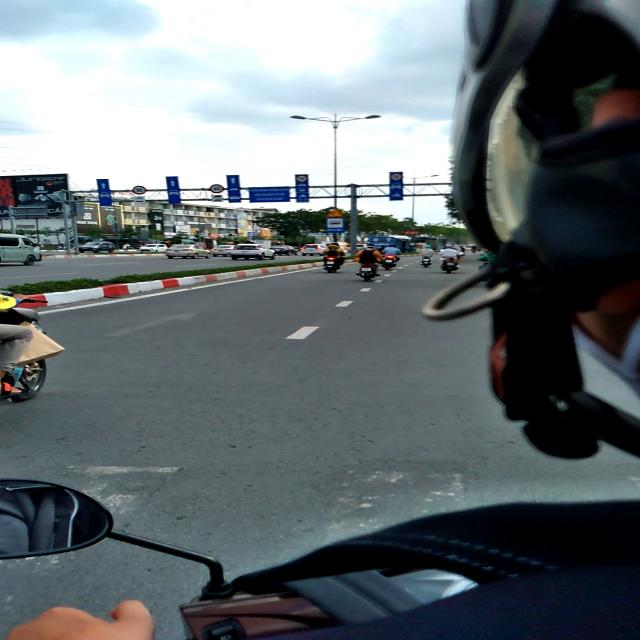P.127: (208, 184, 224, 193), (132, 186, 147, 194), (390, 173, 402, 181), (296, 175, 308, 182)
R.434: (326, 218, 345, 232)
W.201b: (325, 208, 343, 217)
